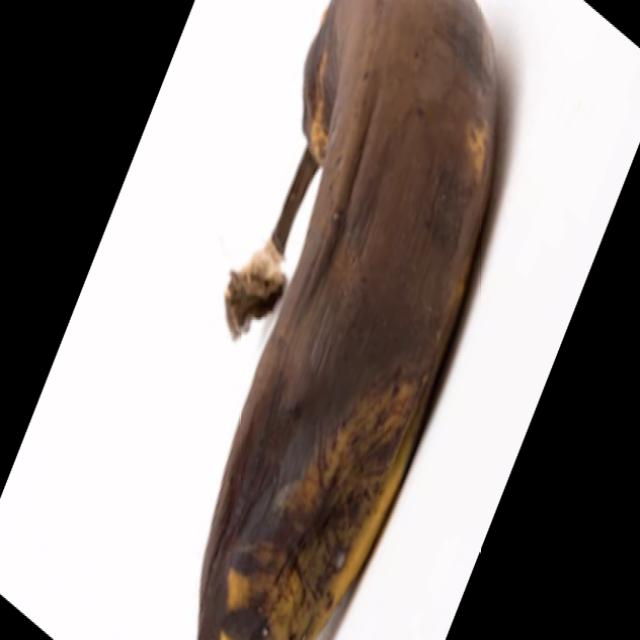Rotten: (197, 0, 500, 640)
